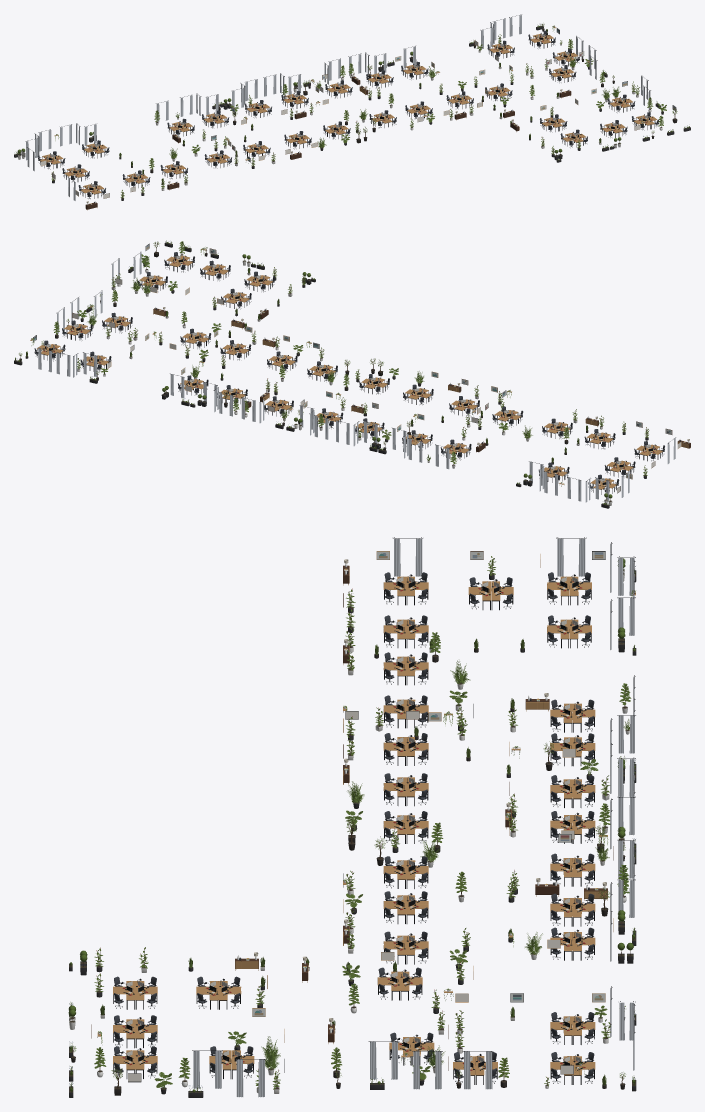
3 renders of one model, top to bottom at view 1: azimuth 30°, elevation 25°; view 2: azimuth 150°, elevation 25°; view 3: azimuth 270°, elevation 25°, orthographic. The views are drawn at different scales.
Bounding box in the file's own units: 82.62 × 2.86 × 37.96.
